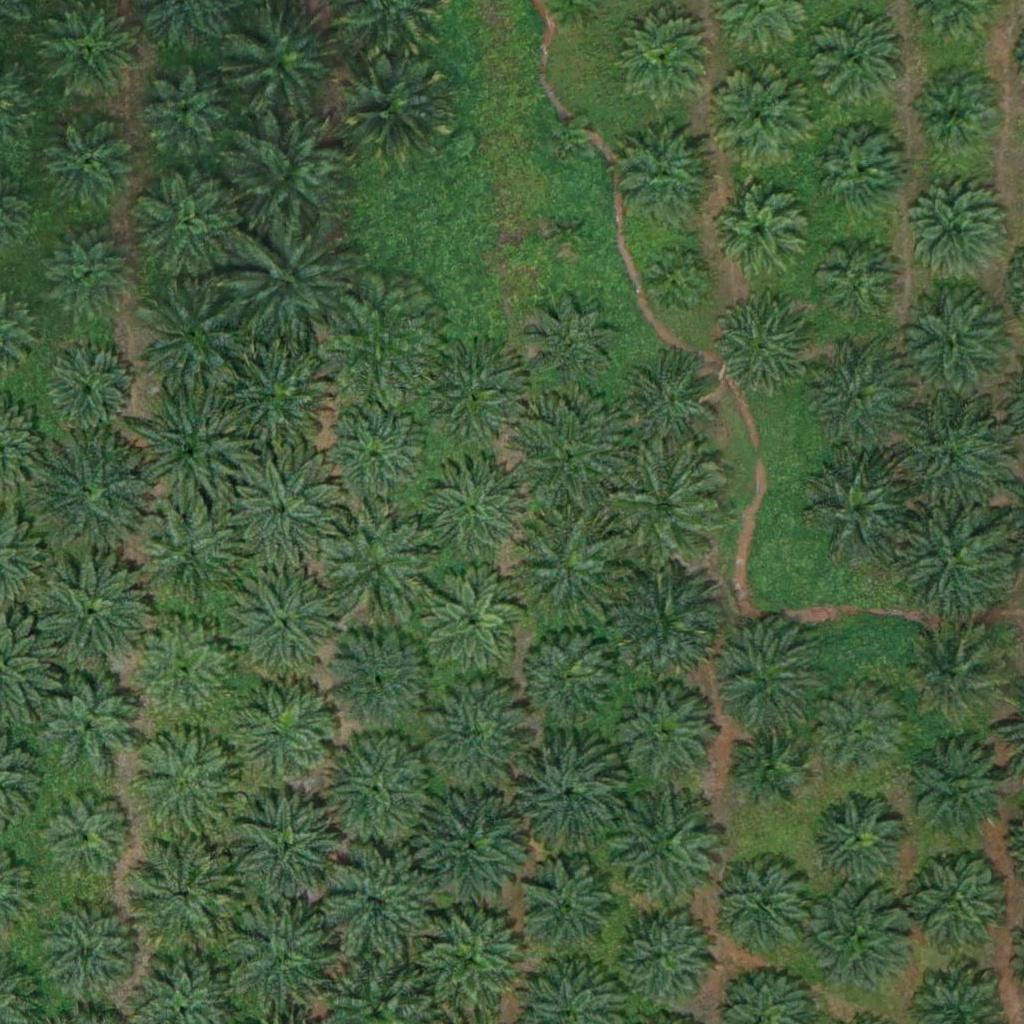Kelapa_Sawit: (324, 285, 437, 399), (236, 117, 349, 231), (236, 224, 349, 338), (605, 448, 718, 562), (709, 622, 822, 736), (901, 843, 1014, 957), (799, 882, 912, 996), (901, 291, 1014, 404), (37, 439, 150, 552), (35, 557, 148, 670), (131, 729, 244, 842), (123, 838, 236, 951), (216, 339, 329, 452), (319, 401, 432, 514), (323, 508, 436, 621), (320, 622, 433, 735), (423, 676, 536, 789), (415, 786, 528, 899), (894, 402, 1007, 515), (417, 907, 530, 1020), (228, 906, 341, 1019), (221, 1, 333, 115), (414, 333, 526, 447), (418, 448, 530, 562), (513, 400, 625, 514), (510, 508, 622, 622), (610, 561, 722, 675), (607, 676, 719, 790), (339, 45, 451, 158), (515, 288, 627, 401), (132, 168, 244, 281), (139, 282, 251, 395), (134, 397, 246, 510), (136, 499, 248, 612), (225, 458, 337, 571), (226, 569, 338, 682), (231, 793, 343, 906), (319, 736, 431, 849), (320, 848, 432, 961), (511, 729, 623, 842), (609, 794, 721, 907), (803, 453, 915, 566), (899, 506, 1011, 619), (904, 737, 1016, 850), (706, 69, 806, 170), (909, 627, 1009, 728), (908, 176, 1008, 277), (807, 14, 907, 115), (809, 350, 909, 451), (709, 177, 809, 278), (711, 295, 811, 396), (613, 2, 713, 103), (618, 126, 718, 227), (40, 109, 140, 210), (36, 674, 136, 775), (132, 620, 232, 721), (232, 680, 332, 781), (422, 567, 522, 668), (517, 858, 617, 959), (617, 354, 717, 455), (614, 906, 714, 1007), (37, 1, 137, 101), (39, 903, 139, 1003), (518, 624, 618, 724), (707, 857, 807, 957), (809, 680, 909, 780), (806, 792, 906, 892), (813, 240, 901, 329), (819, 125, 907, 213), (42, 230, 130, 318), (47, 347, 135, 435), (914, 71, 1001, 159), (142, 65, 229, 153), (45, 793, 132, 881), (730, 726, 805, 802), (645, 249, 708, 312), (551, 123, 588, 161), (547, 214, 584, 252)
